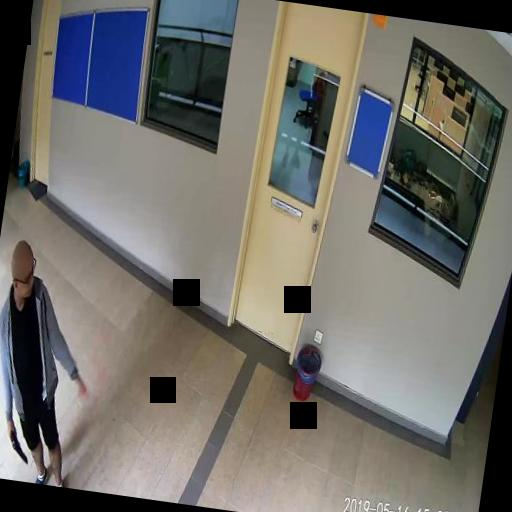Handgun: (4, 423, 30, 461)
